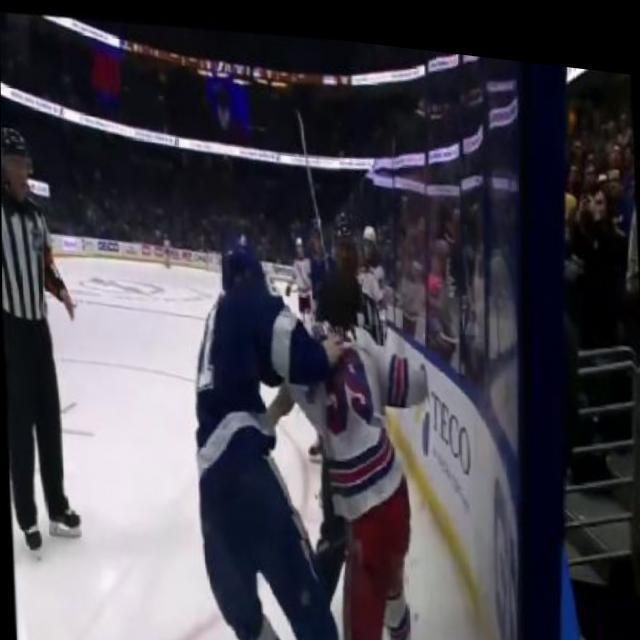fight: (181, 214, 438, 640)
